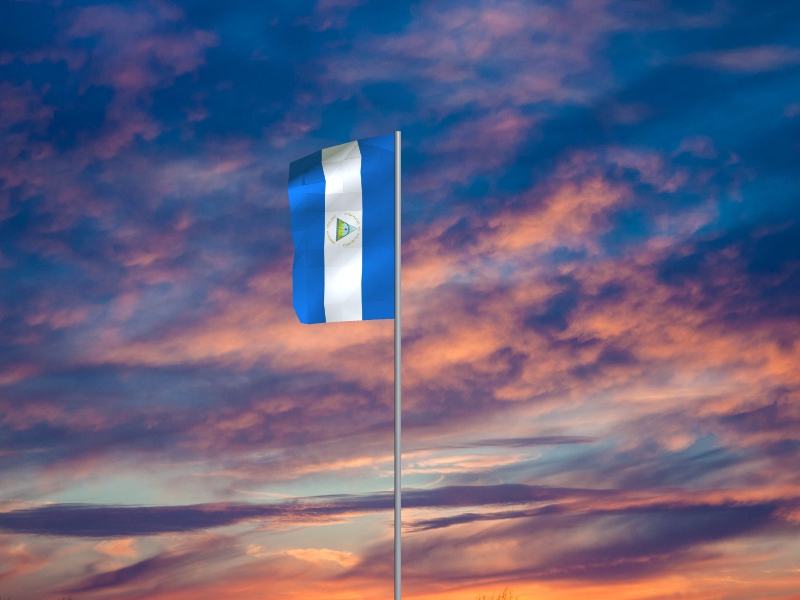ni: (288, 133, 395, 325)
